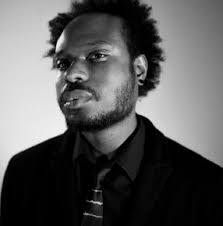black_male: (51, 29, 141, 128)
